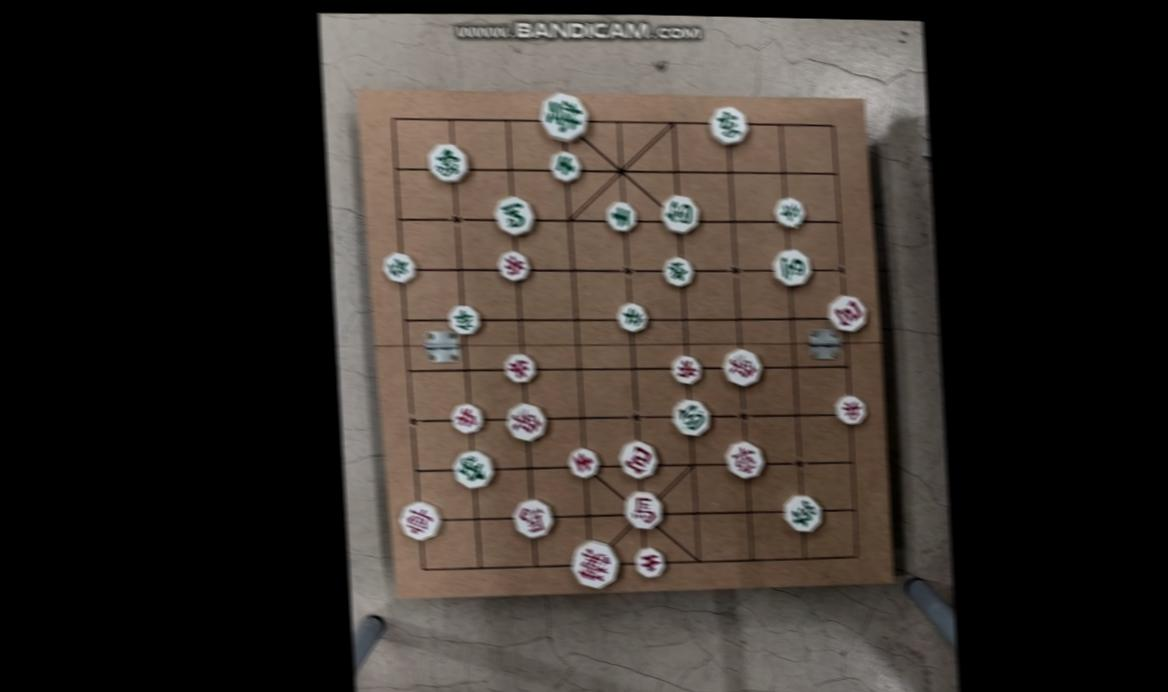cha_green: (706, 105, 750, 142), (780, 494, 821, 530)
cha_red: (397, 500, 442, 537), (723, 440, 766, 477)
jol_green: (771, 194, 805, 227), (384, 252, 420, 281), (448, 305, 483, 334), (616, 303, 649, 332), (661, 257, 694, 286)
jol_red: (497, 250, 533, 280), (448, 403, 484, 432), (500, 352, 535, 381), (669, 354, 702, 383), (833, 394, 867, 422)
ma_green: (492, 196, 536, 234), (771, 249, 814, 284)
ma_red: (622, 491, 665, 528), (511, 499, 554, 535)
po_green: (668, 397, 711, 434), (659, 196, 701, 232)
po_red: (826, 295, 869, 332), (618, 442, 660, 479)
sa_green: (547, 151, 581, 182), (603, 201, 637, 229)
sa_red: (565, 446, 601, 479), (632, 549, 666, 578)
sang_green: (425, 141, 467, 184), (450, 451, 495, 488)
sang_red: (719, 348, 761, 385), (504, 402, 547, 438)
wang_green: (538, 93, 591, 140)
wang_red: (572, 540, 622, 584)
